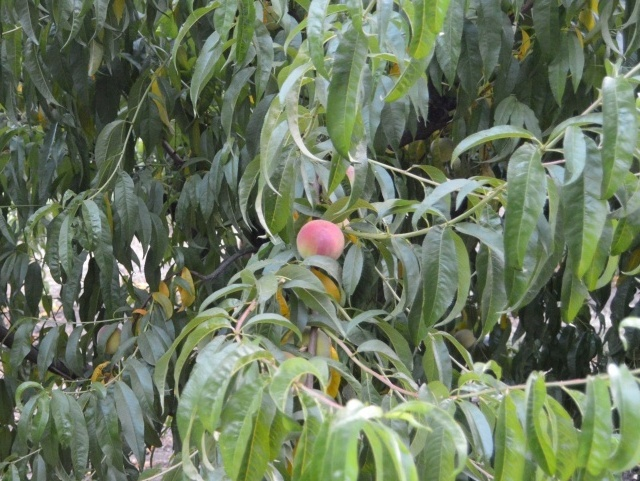peach: (292, 214, 348, 267), (92, 322, 125, 354)
